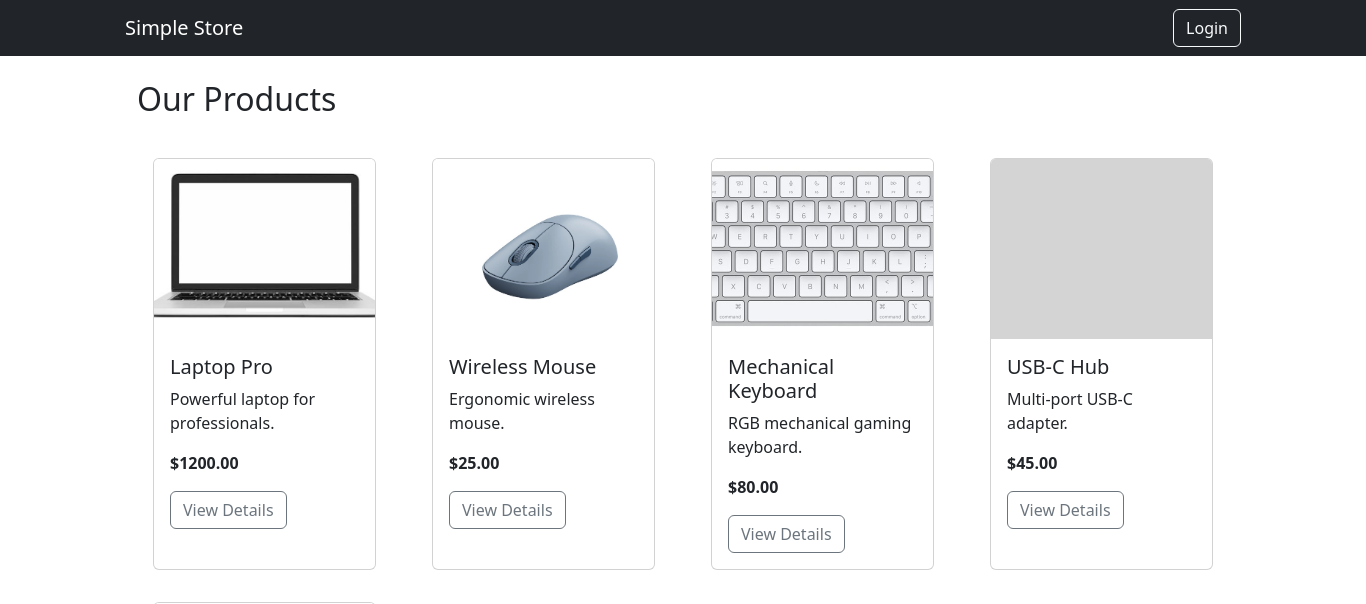
Test: Auth E2E Tests › should close login modal
This screenshot has width=1366, height=604.
Click the button with test id ".navbar [data-testid=\"nav-login\"]".
click(1207, 28)  # box [1173,9,1241,47]
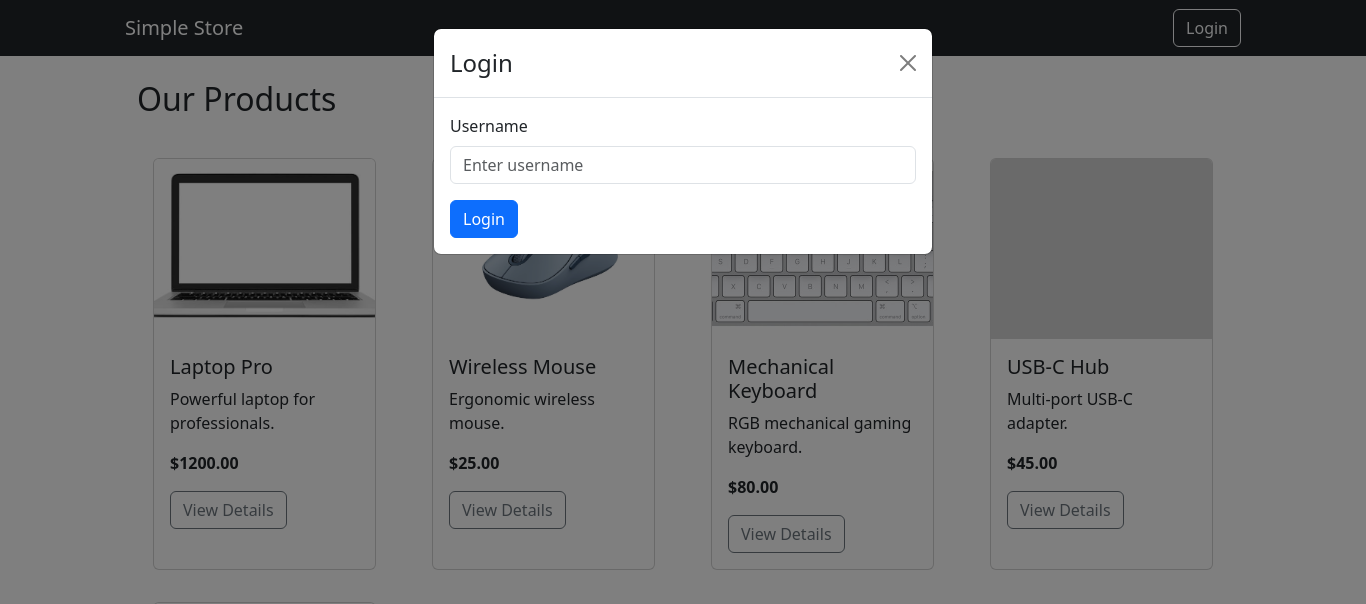
Expected: the element with test id "login-modal" is shown, [433,28,933,255]
Click the button with class "btn-close".
click(908, 63)  # box [892,47,924,79]
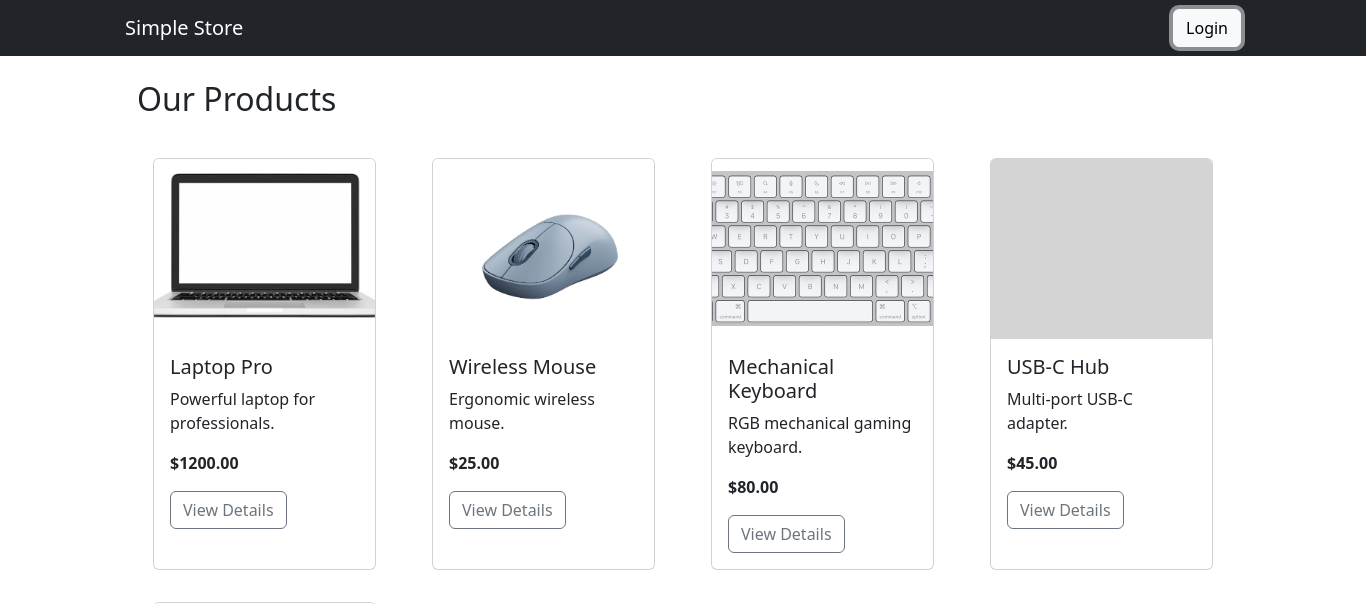
Expected: the element with test id "login-modal" is gone
